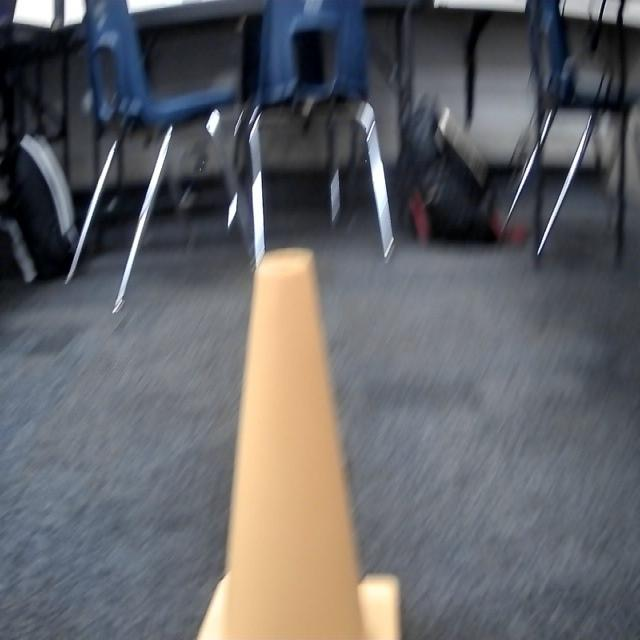cone: (196, 249, 405, 640)
